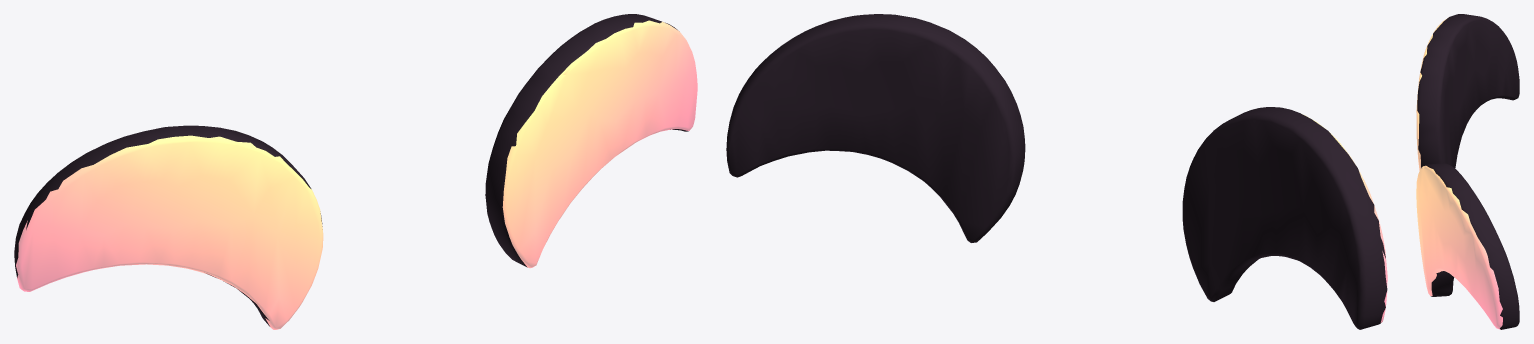
File: eyes-happy.glb
3 renders of one model, left to right at view 1: azimuth 30°, elevation 25°; view 2: azimuth 150°, elevation 25°; view 3: azimuth 270°, elevation 25°, orthographic. The views are drawn at different scales.
Visible parts, largest first — view 1: eyes-happy; view 2: eyes-happy; view 3: eyes-happy.
Boxes of the visible parts, x1,y1,x2,y2 form: eyes-happy: [14, 14, 697, 329]; eyes-happy: [726, 14, 1387, 329]; eyes-happy: [1416, 14, 1519, 329].
Bounding box in the file's own units: 0.4869 × 0.1446 × 0.0889.
